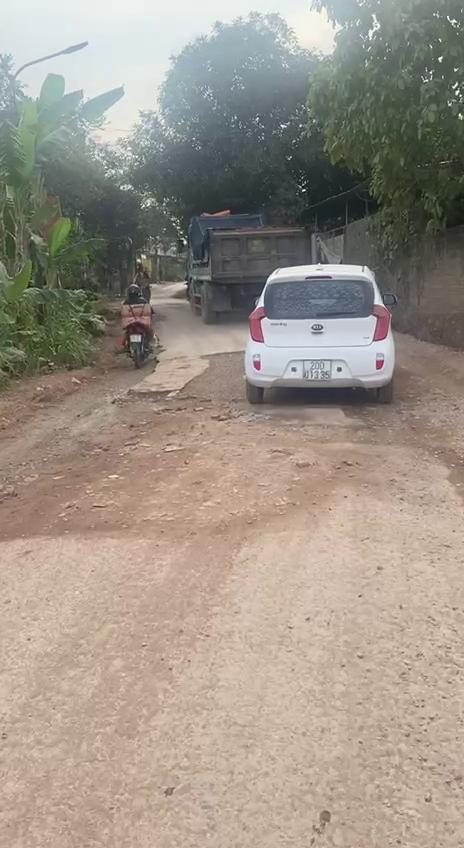pothole: (172, 347, 462, 459), (0, 383, 188, 532)
